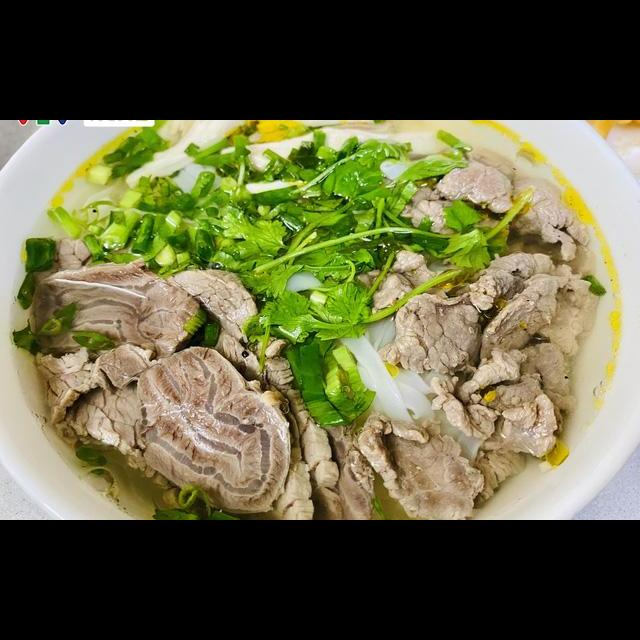banh pho: (229, 122, 442, 201), (333, 309, 441, 436), (116, 121, 251, 212)
pho bo: (11, 155, 606, 520)
thit bo: (128, 343, 296, 517), (29, 342, 173, 492), (18, 255, 211, 362), (461, 247, 607, 364), (424, 365, 566, 464), (165, 260, 268, 395), (357, 417, 485, 520), (212, 326, 315, 453), (472, 268, 577, 374), (371, 288, 489, 378), (455, 337, 579, 419), (385, 175, 514, 253), (501, 174, 594, 263), (426, 138, 520, 220), (352, 246, 471, 310)
